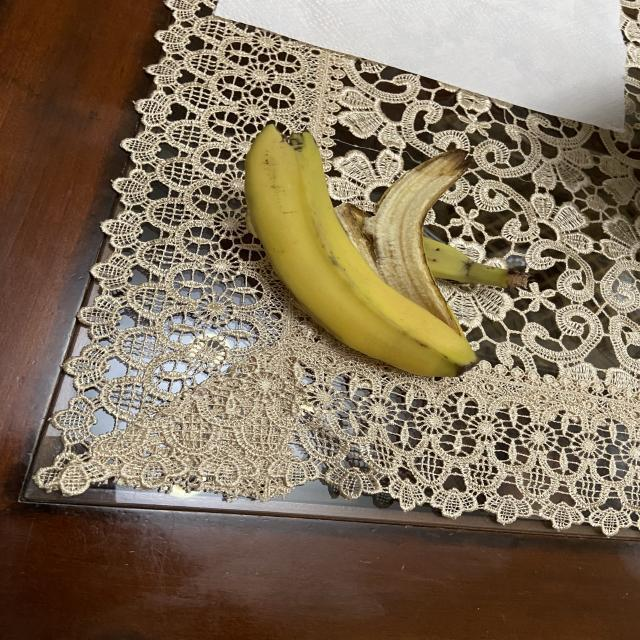banana-peel: (242, 120, 524, 379)
